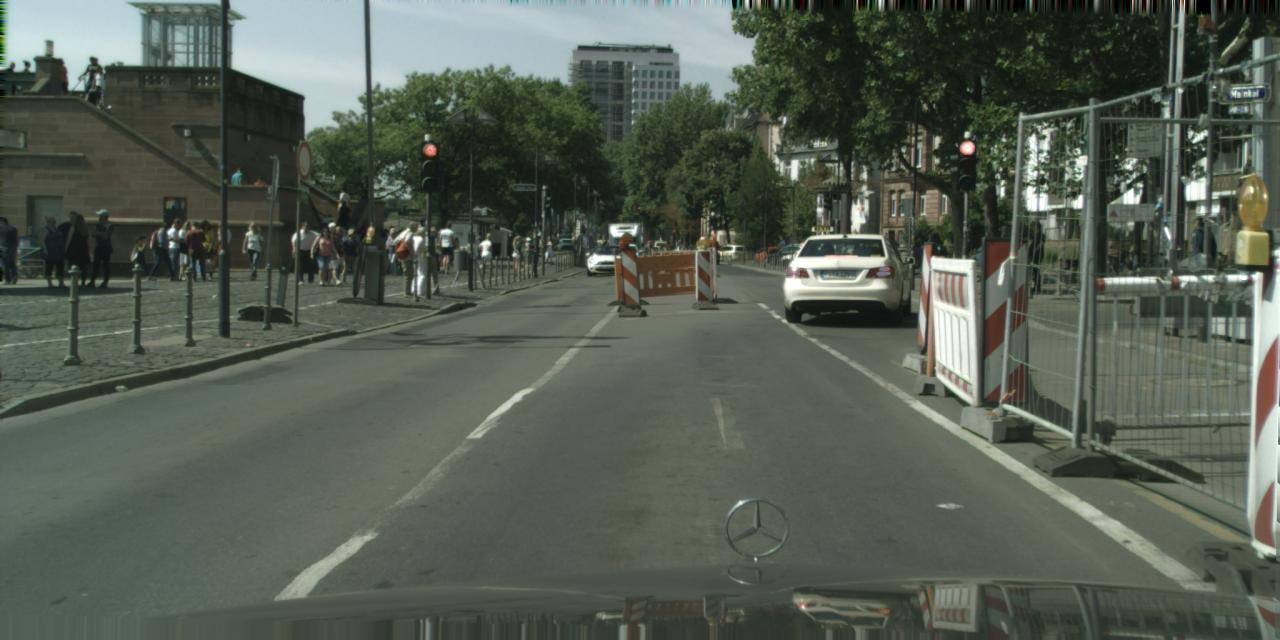ped: (83, 208, 115, 288), (395, 222, 425, 296), (62, 214, 92, 287), (39, 215, 68, 287), (404, 226, 432, 296), (56, 211, 84, 281), (419, 226, 447, 296), (293, 221, 319, 283), (162, 218, 188, 280), (321, 225, 346, 285), (192, 219, 217, 279), (184, 220, 209, 279), (172, 221, 196, 280), (152, 220, 176, 279), (242, 221, 266, 280), (0, 216, 21, 283), (211, 220, 235, 278), (313, 227, 336, 285), (339, 228, 362, 284), (436, 222, 457, 272), (314, 222, 334, 272), (348, 226, 368, 272), (327, 227, 346, 274), (383, 227, 402, 274), (82, 56, 101, 102), (51, 57, 70, 102), (354, 226, 372, 272), (520, 231, 538, 276), (342, 225, 360, 270), (133, 235, 151, 280), (374, 228, 392, 273), (14, 59, 32, 103), (479, 232, 497, 276), (390, 230, 407, 271), (432, 230, 448, 271), (510, 234, 526, 274), (90, 67, 106, 107), (334, 200, 350, 240), (3, 61, 18, 101), (384, 227, 398, 264), (472, 230, 487, 264), (337, 187, 351, 222), (322, 212, 335, 246), (87, 86, 99, 118), (543, 235, 555, 265), (230, 168, 242, 198), (450, 238, 460, 264), (254, 176, 264, 202), (538, 234, 544, 250), (603, 237, 608, 252)
